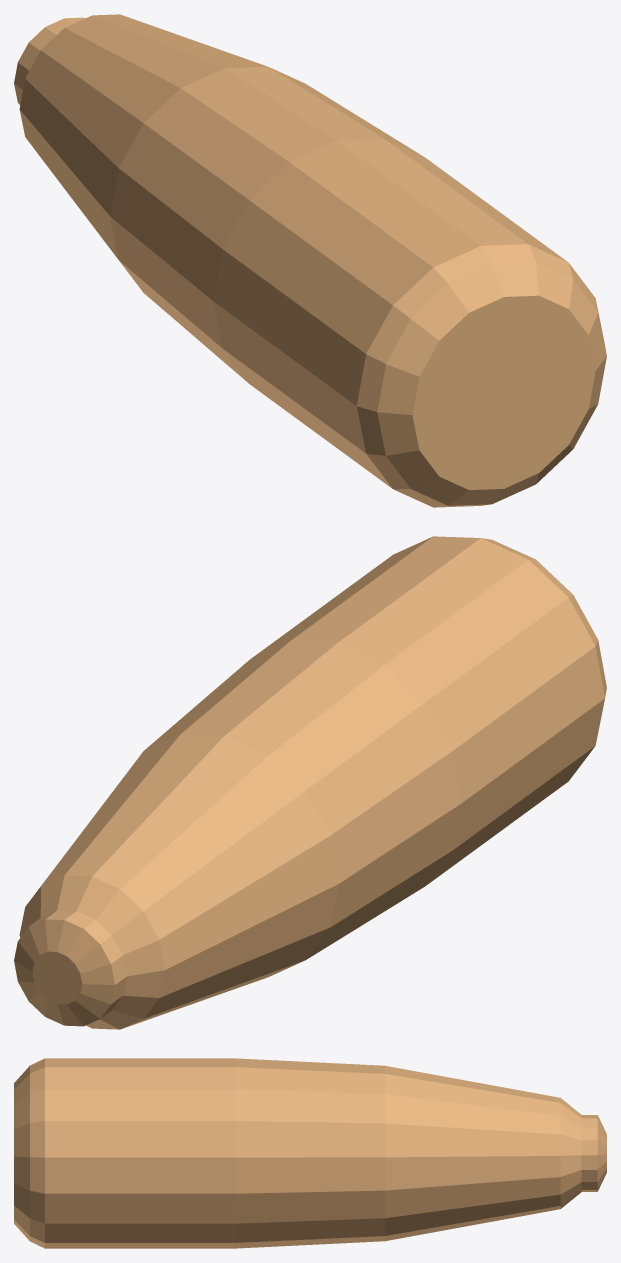
The model's file is bullet.fbx.
The picture shows the model from 3 angles, top to bottom: view 1: azimuth 30°, elevation 25°; view 2: azimuth 150°, elevation 25°; view 3: azimuth 270°, elevation 25°; orthographic projection. The views are drawn at different scales.
Parts seen in each view (by area): view 1: bullet_3d; view 2: bullet_3d; view 3: bullet_3d.
Part boxes in pixels (box(x1,y1,x2,y2)): bullet_3d: box(14, 14, 606, 507); bullet_3d: box(14, 536, 606, 1029); bullet_3d: box(14, 1058, 606, 1248).
Size of the model in its own units: 63.32 by 63.32 by 197.
